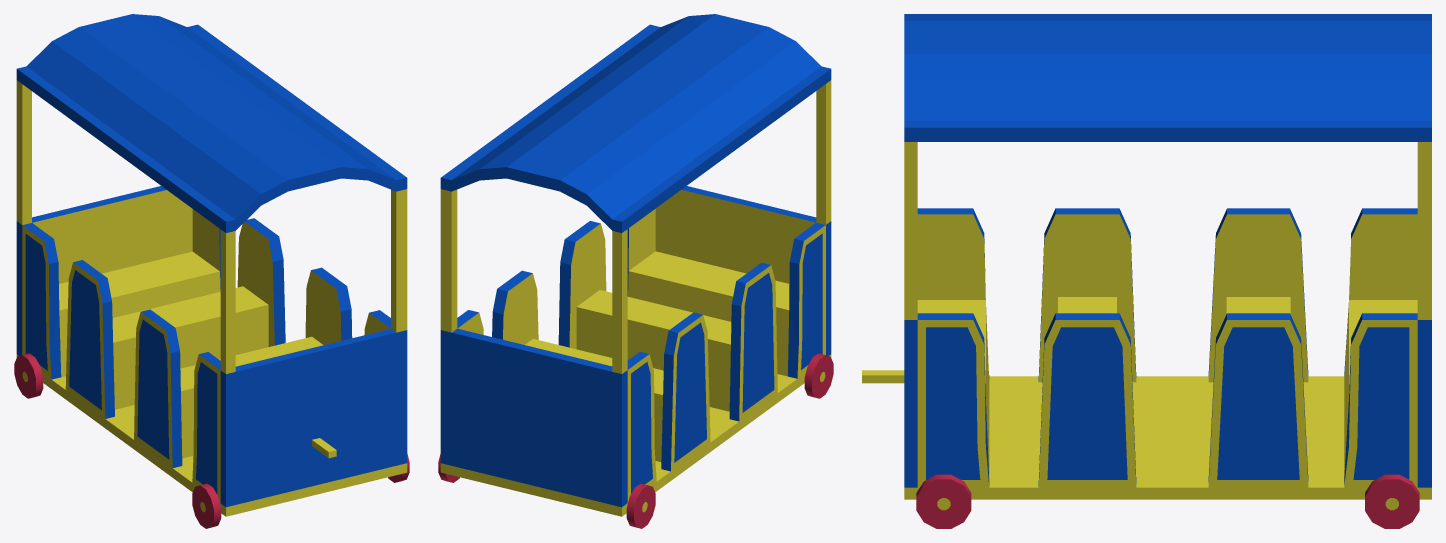
Rendered from Wagon03.fbx.
The picture shows the model from 3 angles, left to right: view 1: azimuth 30°, elevation 25°; view 2: azimuth 150°, elevation 25°; view 3: azimuth 270°, elevation 25°; orthographic projection. The views are drawn at different scales.
Visible parts, largest first — view 1: Wagon03; view 2: Wagon03; view 3: Wagon03.
Part boxes in pixels (x1,y1,x2,y2): Wagon03: (14,14,409,528); Wagon03: (438,14,833,528); Wagon03: (862,14,1431,528).
Bounding box in the file's own units: 108 × 180 × 216.
